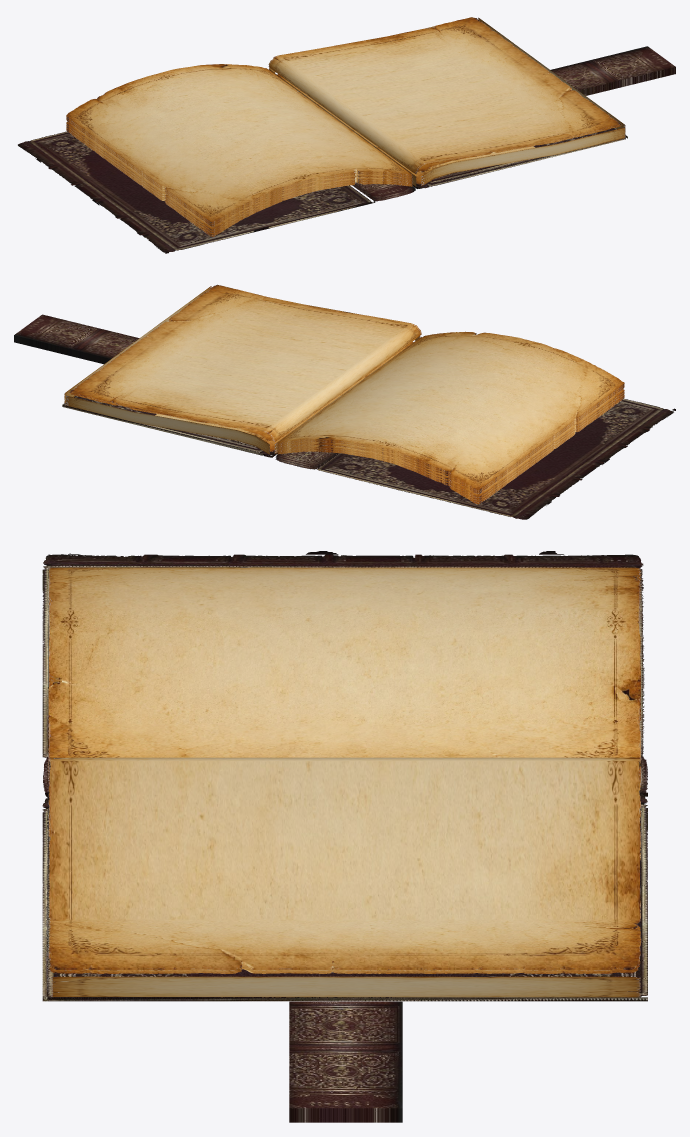
File: book.fbx
3 views of the same model, one above another, from view 1: azimuth 30°, elevation 25°; view 2: azimuth 150°, elevation 25°; view 3: azimuth 270°, elevation 25° (orthographic). The views are drawn at different scales.
Visible parts, largest first — view 1: fake_thin002, 속지028, Object011, fake_box002, Plane083, 속지026, Object009, 속지024, 속지023, 속지025, 속지022, 속지027 (+1 smaller); view 2: fake_thin002, 속지028, Object011, fake_box002, Plane083, Object009, 속지026, 속지024, 속지023, 속지025, 속지027, 속지022 (+1 smaller); view 3: fake_thin002, 속지028, fake_box002, Plane083, Object011, Object009.
Boxes of the visible parts, <box> form: fake_thin002: <box>268,17,619,173</box>; 속지028: <box>66,64,412,223</box>; Object011: <box>18,131,375,253</box>; fake_box002: <box>269,17,625,186</box>; Plane083: <box>550,46,675,95</box>; 속지026: <box>66,121,412,230</box>; Object009: <box>412,127,627,188</box>; 속지024: <box>66,125,412,232</box>; 속지023: <box>66,127,412,235</box>; 속지025: <box>66,118,412,226</box>; 속지022: <box>66,129,412,237</box>; 속지027: <box>66,117,412,224</box>; fake_thin002: <box>71,285,421,442</box>; 속지028: <box>277,331,624,490</box>; Object011: <box>317,398,675,519</box>; fake_box002: <box>64,284,421,454</box>; Plane083: <box>14,314,139,364</box>; Object009: <box>62,396,277,457</box>; 속지026: <box>277,389,624,497</box>; 속지024: <box>277,392,624,500</box>; 속지023: <box>277,394,624,502</box>; 속지025: <box>277,386,624,493</box>; 속지027: <box>277,334,624,492</box>; 속지022: <box>277,396,624,504</box>; fake_thin002: <box>49,757,641,970</box>; 속지028: <box>48,567,640,767</box>; fake_box002: <box>48,772,641,997</box>; Plane083: <box>289,1001,402,1122</box>; Object011: <box>42,551,644,757</box>; Object009: <box>42,792,647,1001</box>.
Bounding box in the file's own units: 42.96 × 2.99 × 19.71.
Materials: 3 (3 with a texture image).
